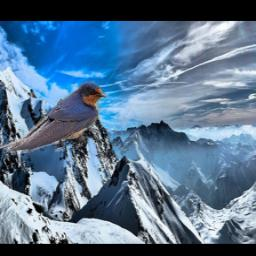Swallow: (0, 80, 106, 153)
